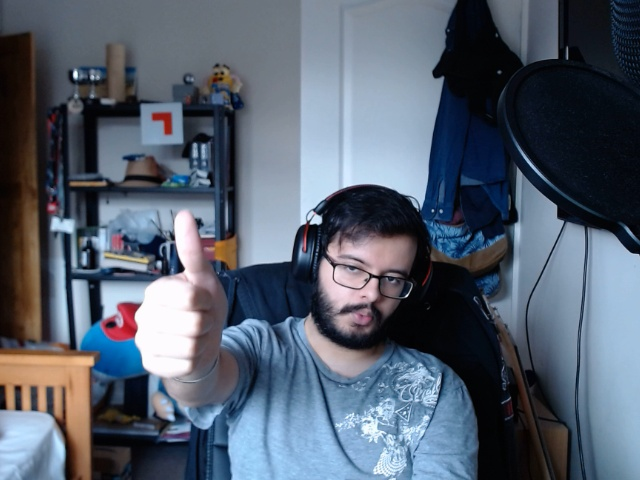Thumbs up: (128, 200, 234, 389)
